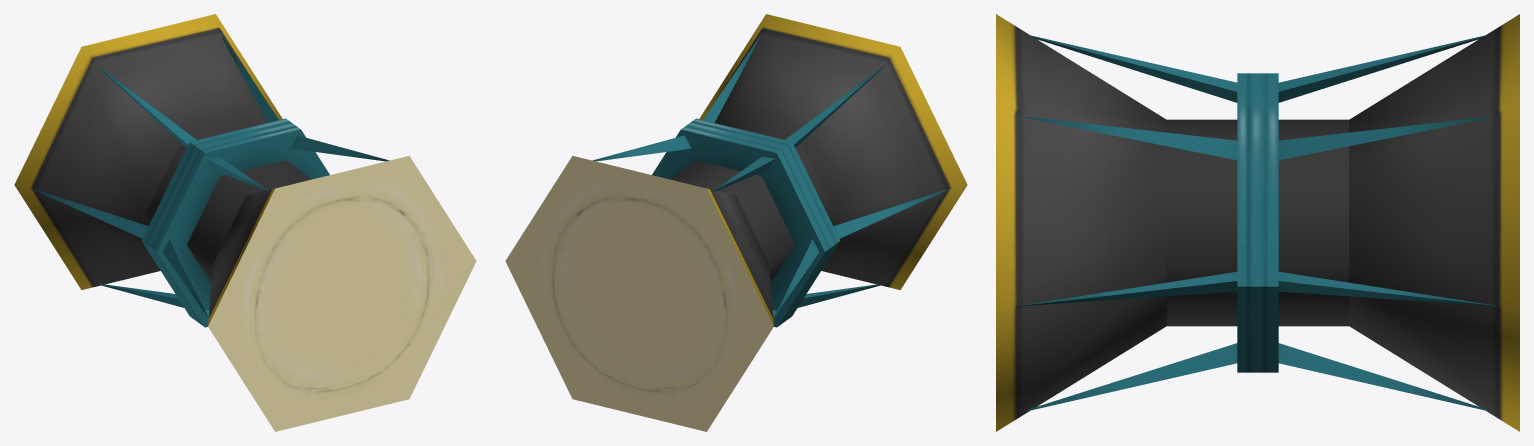
File: taiko.fbx
The picture shows the model from 3 angles, left to right: view 1: azimuth 30°, elevation 25°; view 2: azimuth 150°, elevation 25°; view 3: azimuth 270°, elevation 25°; orthographic projection. The views are drawn at different scales.
Parts seen in each view (by area): view 1: taiko; view 2: taiko; view 3: taiko.
Boxes of the visible parts, bbox=[...] form: taiko: bbox=[14, 14, 476, 431]; taiko: bbox=[505, 14, 967, 431]; taiko: bbox=[996, 14, 1519, 431].
Size of the model in its own units: 12.03 by 10.42 by 15.02.
